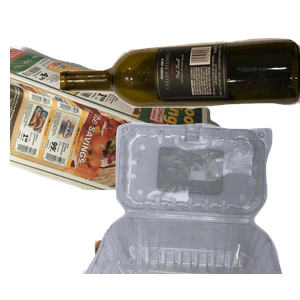glass: (60, 36, 300, 147)
paper: (10, 42, 224, 222)
plastic: (80, 120, 300, 300)
trash: (92, 174, 272, 300)
